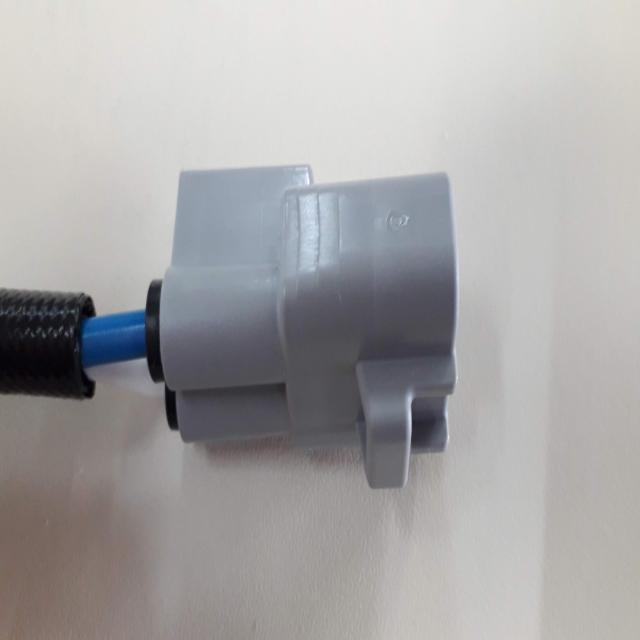connector: (160, 166, 457, 487)
